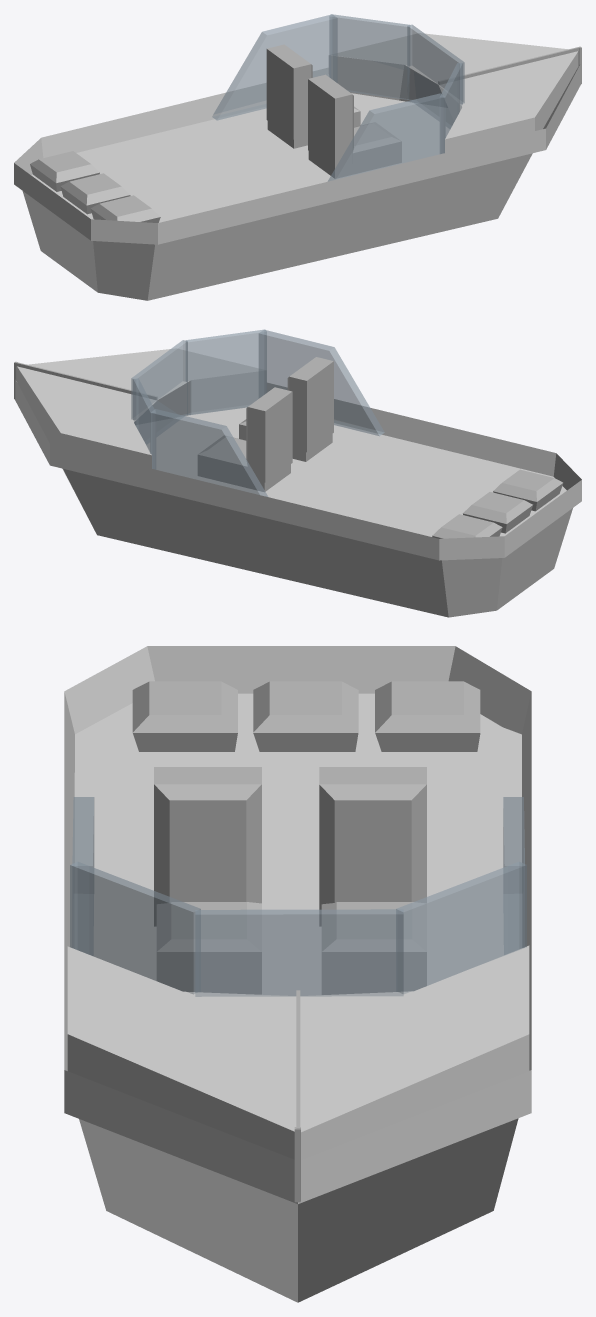
Rendered from boat.glb.
3 views of the same model, one above another, from view 1: azimuth 30°, elevation 25°; view 2: azimuth 150°, elevation 25°; view 3: azimuth 270°, elevation 25° (orthographic). The views are drawn at different scales.
Visible parts, largest first — view 1: Cube, Cube.009, Cube.001, Cube.003, Cube.002, Cube.004, Cube.006, Cube.007, Cube.005, Cube.015, Cube.014, Cube.013 (+3 smaller); view 2: Cube, Cube.009, Cube.012, Cube.002, Cube.003, Cube.004, Cube.007, Cube.006, Cube.008, Cube.014, Cube.013, Cube.001 (+3 smaller); view 3: Cube, Cube.009, Cube.004, Cube.006, Cube.007, Cube.012, Cube.001, Cube.005, Cube.008, Cube.014, Cube.015, Cube.013 (+2 smaller).
Boxes of the visible parts, x1,y1,x2,y2 form: Cube: (14, 64, 580, 300); Cube.009: (329, 33, 578, 152); Cube.001: (329, 14, 409, 99); Cube.003: (328, 93, 445, 181); Cube.002: (212, 14, 337, 120); Cube.004: (407, 24, 464, 128); Cube.006: (308, 74, 353, 169); Cube.007: (266, 44, 312, 139); Cube.005: (308, 122, 401, 178); Cube.015: (30, 151, 99, 191); Cube.014: (60, 173, 130, 214); Cube.013: (90, 195, 160, 222); Cube: (15, 379, 581, 617); Cube.009: (17, 348, 258, 468); Cube.012: (186, 329, 266, 415); Cube.002: (150, 409, 267, 496); Cube.003: (258, 330, 384, 436); Cube.004: (131, 340, 187, 444); Cube.007: (246, 387, 292, 482); Cube.006: (287, 357, 333, 452); Cube.008: (198, 435, 290, 491); Cube.014: (463, 492, 532, 533); Cube.013: (493, 469, 563, 511); Cube.001: (133, 378, 155, 469); Cube: (64, 646, 531, 1302); Cube.009: (67, 945, 529, 1159); Cube.004: (195, 909, 403, 996); Cube.006: (154, 767, 261, 926); Cube.007: (319, 767, 426, 926); Cube.012: (70, 862, 200, 994); Cube.001: (396, 861, 526, 993); Cube.005: (157, 902, 261, 994); Cube.008: (321, 902, 426, 994); Cube.014: (253, 681, 358, 751); Cube.015: (375, 681, 480, 751); Cube.013: (132, 681, 237, 751).
Bounding box in the file's own units: 8.95 × 3.03 × 3.43.
